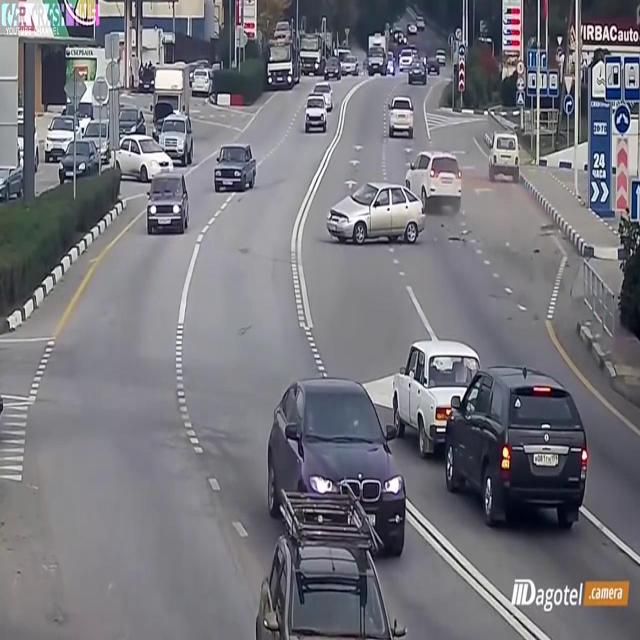accident: (324, 143, 476, 255)
non_accident: (250, 369, 414, 640), (391, 332, 593, 548), (41, 61, 198, 242), (303, 77, 337, 143)
